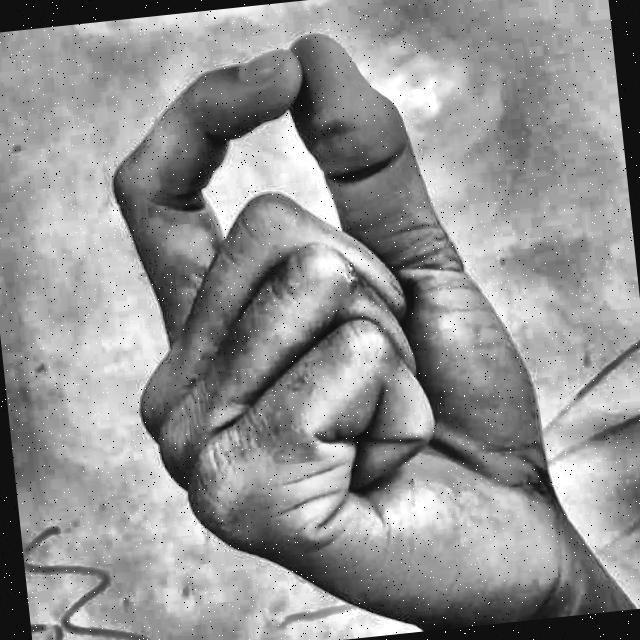Gha: (72, 0, 631, 640)
